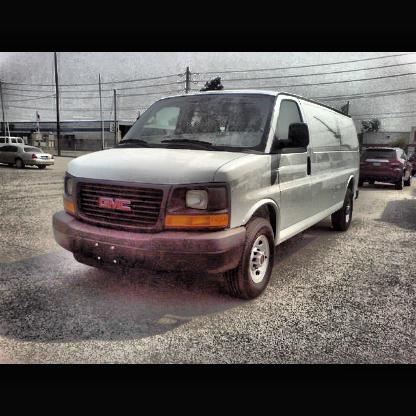GMC Savana Van 2012: (53, 90, 360, 300)
